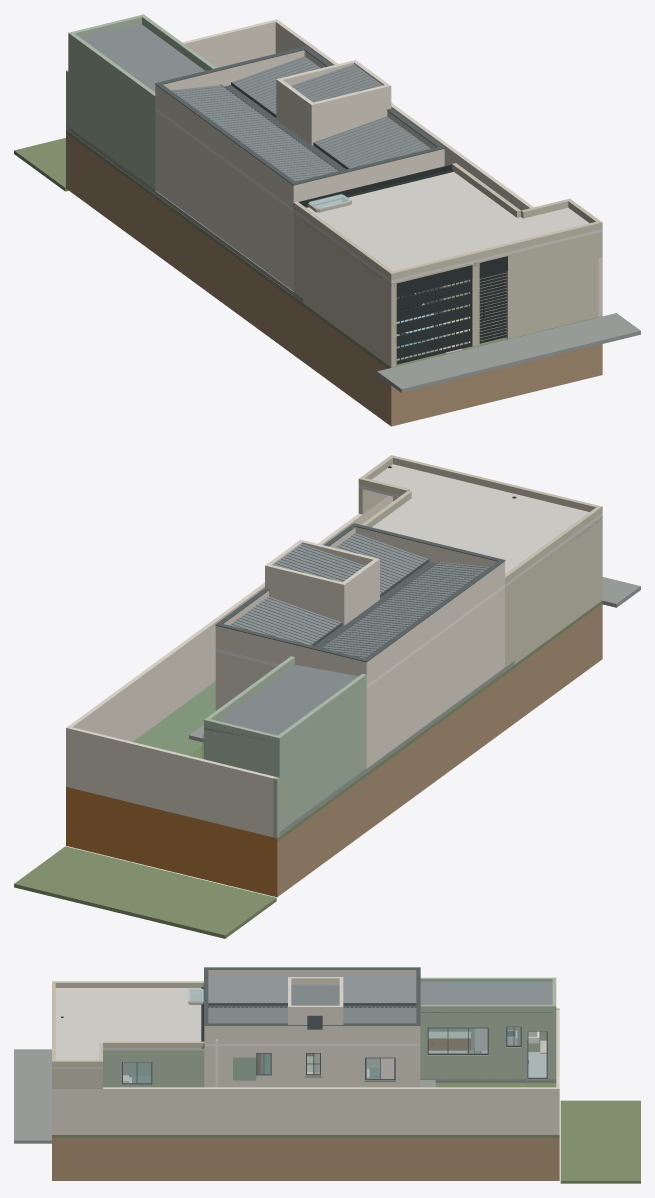
File: casa-bp-copa-seis-g04.glb
The picture shows the model from 3 angles, top to bottom: view 1: azimuth 30°, elevation 25°; view 2: azimuth 150°, elevation 25°; view 3: azimuth 270°, elevation 25°; orthographic projection. The views are drawn at different scales.
Parts seen in each view (by area): view 1: Solo em corte esquemático — perfil lateral não levantado, G03 — laje contínua até a entrada existente (×3), Parede cega / divisa do desenho, G03 — fechamento frontal após porta social, Garagem — fechamento lateral proposto; apoios independentes , Fundos — fechamento esquerdo proposto, Passeio público — contexto ilustrativo, Volume elevado caixa d’água (×2), Platibanda frente / fundo (×2), Pano 1 — social, Fundos — cobertura independente ilustrativa, G03 — platibanda do conjunto frontal (×3) (+18 smaller); view 2: Solo em corte esquemático — perfil lateral não levantado, Face indicativa de contenção — 2 m estimados; seção e fundaç, Muro fundos — 2,00 m sobre terreno, G03 — laje contínua até a entrada existente (×3), Referência do nível do vizinho — extensão apenas ilustrativa, Parede cega / divisa do desenho, Muro lateral direito do desenho — 2,00 m, Garagem — fechamento lateral proposto; apoios independentes , Fundos — fechamento esquerdo proposto, Fundos — cobertura independente ilustrativa, Platibanda frente / fundo (×2), Volume elevado caixa d’água (×2) (+18 smaller); view 3: Muro lateral direito do desenho — 2,00 m, Solo em corte esquemático — perfil lateral não levantado, G03 — laje contínua até a entrada existente (×3), Referência do nível do vizinho — extensão apenas ilustrativa, Lateral existente — só janela do quarto reorganizada em A (×5), Platibanda lateral (×2), Pano 1 — social, Passeio público — contexto ilustrativo, Fundos — fechamento direito da cozinha (×4), Fundos — cobertura independente ilustrativa, Suíte ampliada — lateral para o corredor (×3), G03 — platibanda do conjunto frontal (×4) (+20 smaller).
Part boxes in pixels (left/top/right/bottom): Solo em corte esquemático — perfil lateral não levantado: left=66, top=133, right=602, bottom=426; G03 — laje contínua até a entrada existente (×3): left=302, top=172, right=602, bottom=283; Parede cega / divisa do desenho: left=155, top=111, right=293, bottom=290; G03 — fechamento frontal após porta social: left=506, top=233, right=598, bottom=338; Garagem — fechamento lateral proposto; apoios independentes : left=304, top=220, right=395, bottom=367; Fundos — fechamento esquerdo proposto: left=68, top=47, right=155, bottom=189; Passeio público — contexto ilustrativo: left=377, top=313, right=640, bottom=392; Volume elevado caixa d’água (×2): left=276, top=78, right=387, bottom=145; Platibanda frente / fundo (×2): left=163, top=50, right=440, bottom=201; Pano 1 — social: left=171, top=85, right=337, bottom=181; Fundos — cobertura independente ilustrativa: left=78, top=24, right=204, bottom=92; G03 — platibanda do conjunto frontal (×3): left=293, top=163, right=602, bottom=280; Solo em corte esquemático — perfil lateral não levantado: left=277, top=604, right=602, bottom=896; Face indicativa de contenção — 2 m estimados; seção e fundaç: left=66, top=787, right=277, bottom=897; Muro fundos — 2,00 m sobre terreno: left=70, top=727, right=275, bottom=837; G03 — laje contínua até a entrada existente (×3): left=358, top=464, right=602, bottom=580; Referência do nível do vizinho — extensão apenas ilustrativa: left=14, top=846, right=276, bottom=938; Parede cega / divisa do desenho: left=366, top=587, right=504, bottom=767; Muro lateral direito do desenho — 2,00 m: left=66, top=495, right=392, bottom=787; Garagem — fechamento lateral proposto; apoios independentes : left=515, top=516, right=602, bottom=663; Fundos — fechamento esquerdo proposto: left=275, top=689, right=366, bottom=831; Fundos — cobertura independente ilustrativa: left=204, top=664, right=358, bottom=742; Platibanda frente / fundo (×2): left=219, top=527, right=496, bottom=676; Volume elevado caixa d’água (×2): left=269, top=558, right=379, bottom=625; Muro lateral direito do desenho — 2,00 m: left=52, top=1087, right=559, bottom=1134; Solo em corte esquemático — perfil lateral não levantado: left=52, top=1137, right=559, bottom=1180; G03 — laje contínua até a entrada existente (×3): left=52, top=988, right=204, bottom=1068; Referência do nível do vizinho — extensão apenas ilustrativa: left=560, top=1100, right=640, bottom=1183; Lateral existente — só janela do quarto reorganizada em A (×5): left=204, top=1046, right=420, bottom=1087; Platibanda lateral (×2): left=204, top=969, right=420, bottom=1043; Pano 1 — social: left=208, top=974, right=416, bottom=1002; Passeio público — contexto ilustrativo: left=14, top=1049, right=51, bottom=1143; Fundos — fechamento direito da cozinha (×4): left=420, top=1017, right=496, bottom=1079; Fundos — cobertura independente ilustrativa: left=420, top=981, right=552, bottom=1004; Suíte ampliada — lateral para o corredor (×3): left=103, top=1050, right=204, bottom=1087; G03 — platibanda do conjunto frontal (×4): left=52, top=981, right=204, bottom=1066.
Bounding box in the file's own units: 8.5 × 6.68 × 24.7.
